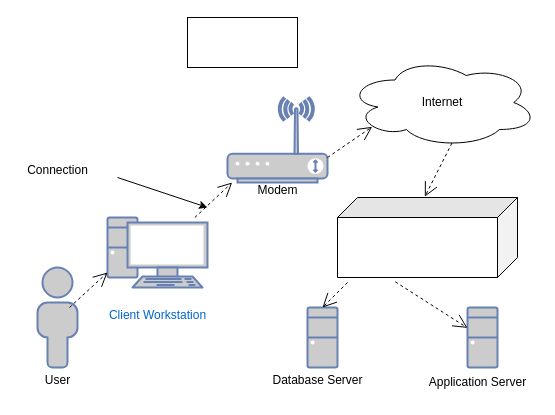
The diagram is 555 pixels wide and 415 high, and some of its shapes have lost their labels. Each missing label, with the box of its shape:
<<Hospital local server>>: (336, 196, 518, 278)
Dipesh Shrestha: (186, 16, 298, 68)
